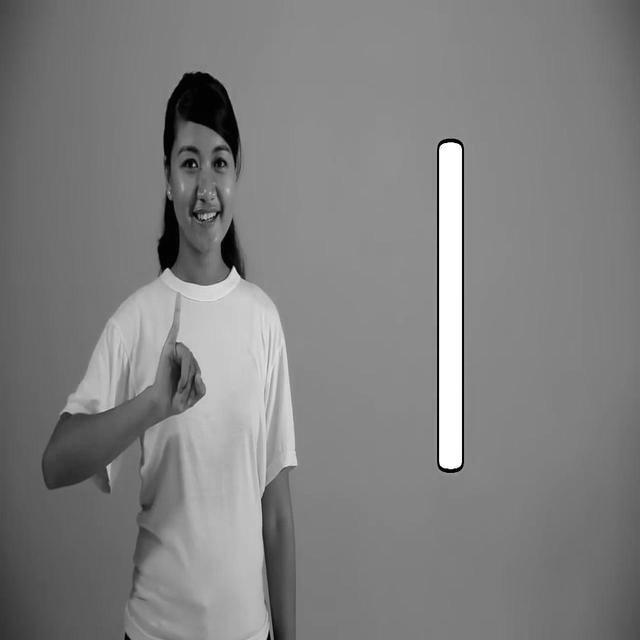I: (146, 282, 220, 428)
